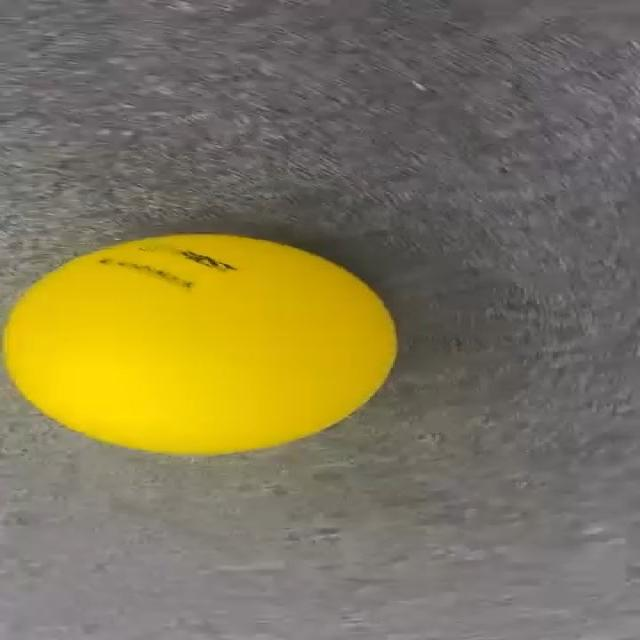Fuels: (5, 235, 395, 453)
